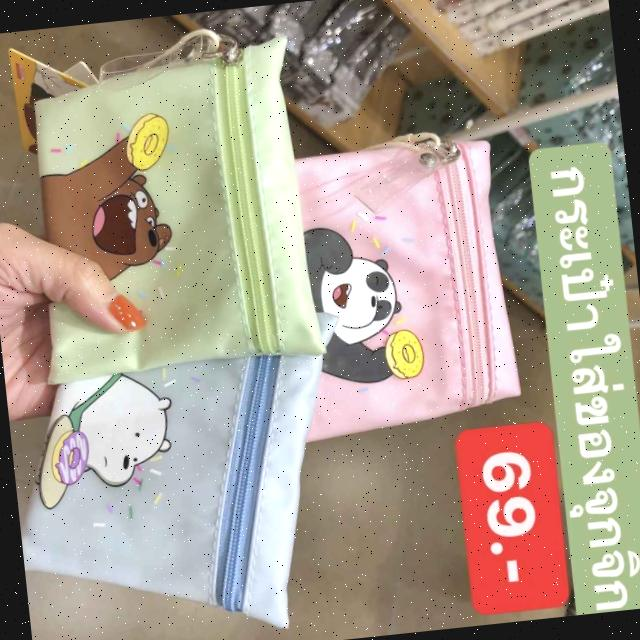Handbag: (14, 40, 324, 380)
